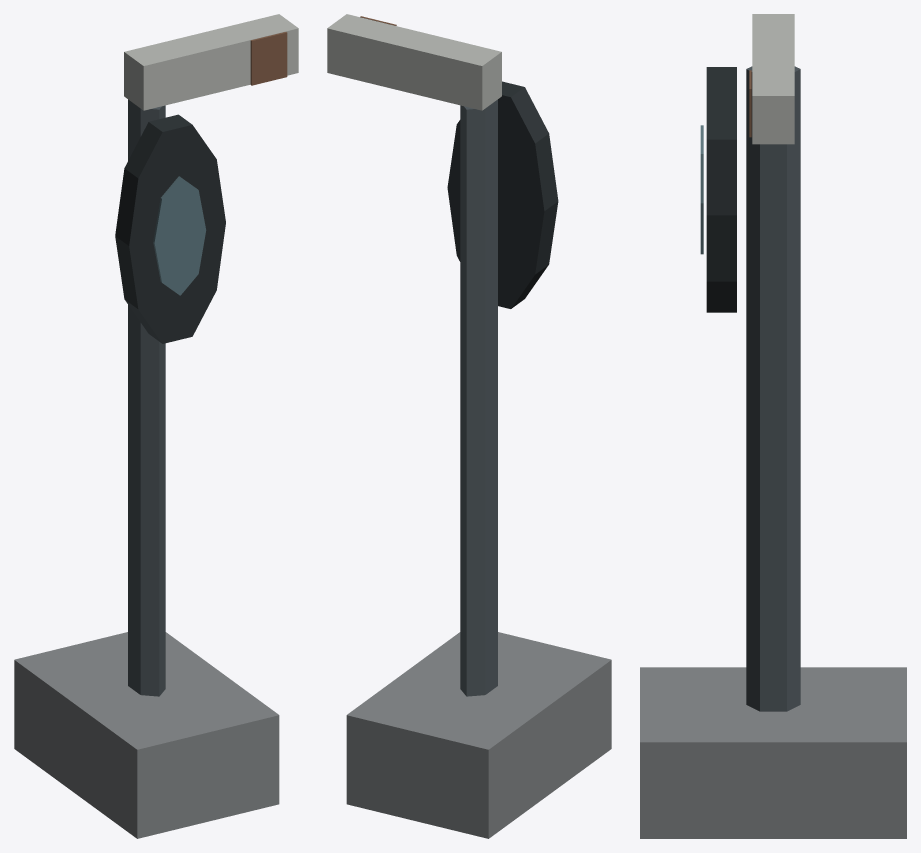
Rendered from signal_post.glb.
The picture shows the model from 3 angles, left to right: view 1: azimuth 30°, elevation 25°; view 2: azimuth 150°, elevation 25°; view 3: azimuth 270°, elevation 25°; orthographic projection. The views are drawn at different scales.
Visible parts, largest first — view 1: signal_post; view 2: signal_post; view 3: signal_post.
Part boxes in pixels (x1,y1,x2,y2): signal_post: [14, 14, 298, 838]; signal_post: [327, 14, 611, 838]; signal_post: [640, 14, 906, 838].
Bounding box in the file's own units: 0.96 × 3.1 × 0.96.
